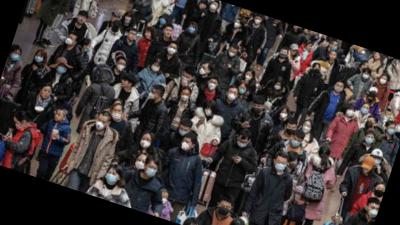with_mask: (103, 170, 120, 186), (133, 157, 149, 174), (93, 117, 109, 133), (216, 203, 232, 219), (144, 164, 159, 180), (179, 138, 194, 154), (138, 135, 153, 150), (273, 159, 288, 174), (110, 108, 124, 123), (56, 62, 69, 76), (149, 63, 163, 76), (176, 127, 191, 139), (179, 91, 192, 104), (363, 134, 376, 147), (32, 53, 45, 65), (197, 65, 209, 78), (290, 137, 302, 150), (287, 158, 299, 171), (374, 186, 386, 199), (368, 205, 379, 219), (10, 51, 22, 63), (64, 35, 76, 47), (236, 138, 248, 150), (226, 90, 238, 102), (371, 155, 383, 167), (179, 74, 192, 85), (207, 79, 218, 92), (116, 61, 127, 73), (162, 28, 174, 39), (251, 104, 263, 115), (285, 124, 296, 136), (301, 123, 312, 135), (360, 105, 371, 117), (166, 45, 177, 56), (203, 107, 214, 118), (365, 118, 375, 130), (387, 125, 397, 137), (148, 90, 158, 101), (110, 24, 121, 34), (209, 2, 220, 12), (279, 110, 289, 121), (334, 84, 344, 95), (361, 166, 372, 176), (160, 194, 169, 206), (13, 121, 23, 131), (187, 25, 197, 35), (237, 86, 247, 96), (228, 49, 238, 59), (368, 90, 378, 100), (346, 108, 355, 119), (158, 17, 167, 27), (123, 15, 132, 25), (233, 20, 242, 30), (279, 50, 288, 60), (273, 83, 283, 92), (85, 44, 93, 55), (244, 73, 253, 82), (294, 27, 303, 36), (305, 44, 313, 53), (362, 72, 370, 81), (379, 77, 388, 85), (253, 17, 261, 25), (332, 43, 339, 52), (320, 35, 327, 43), (362, 64, 370, 71), (386, 113, 393, 120)
without_mask: (40, 87, 53, 100), (126, 31, 138, 43), (53, 111, 64, 123), (77, 15, 88, 26), (109, 13, 119, 25), (120, 79, 130, 90), (142, 31, 152, 41), (290, 48, 298, 56), (329, 53, 337, 61), (313, 67, 321, 75), (198, 3, 205, 11), (374, 53, 381, 60)
